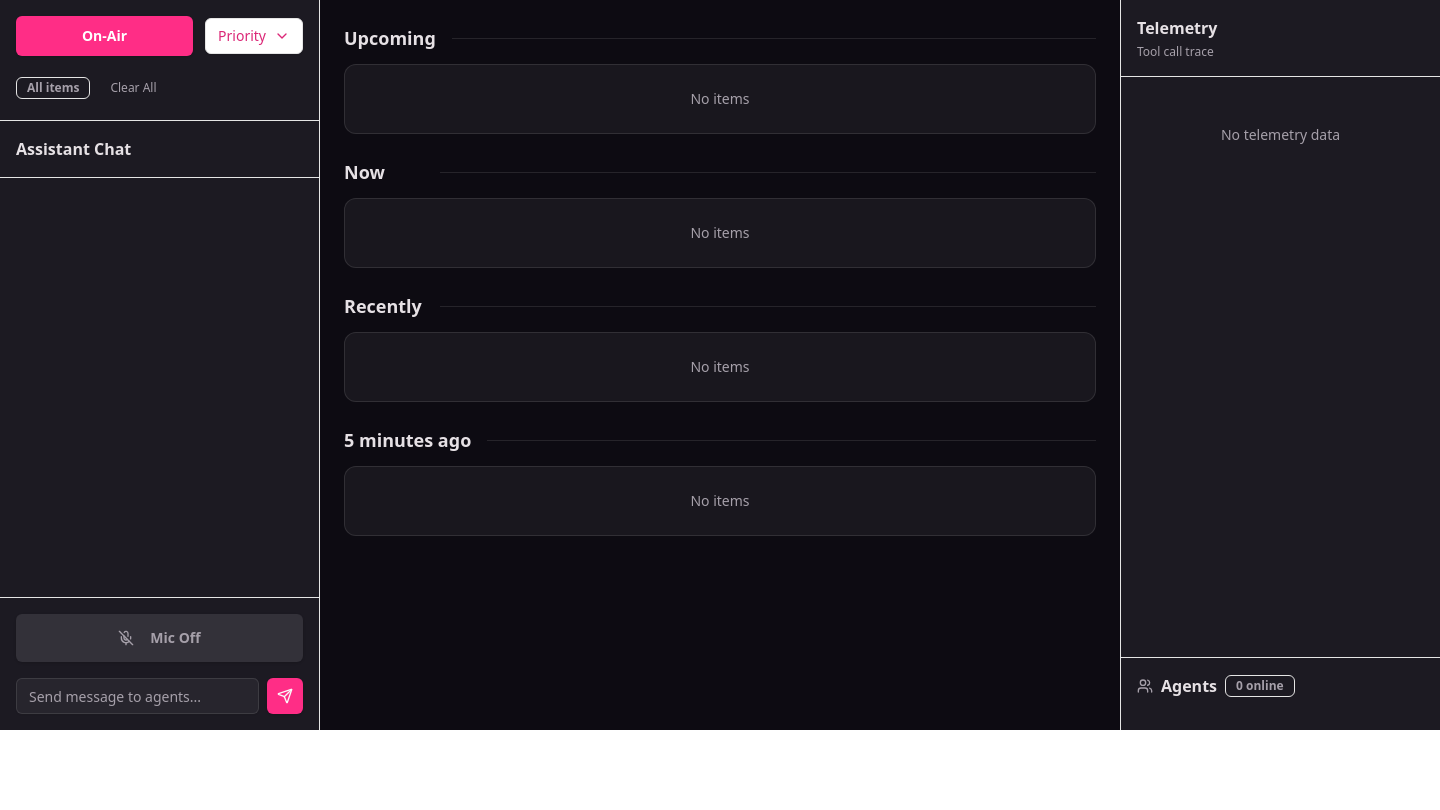
Live page › should toggle microphone on and off and update agent replying status
// Turn mic on
Click the button "Mic Off". click: (160, 638)
box: [16, 614, 303, 662]
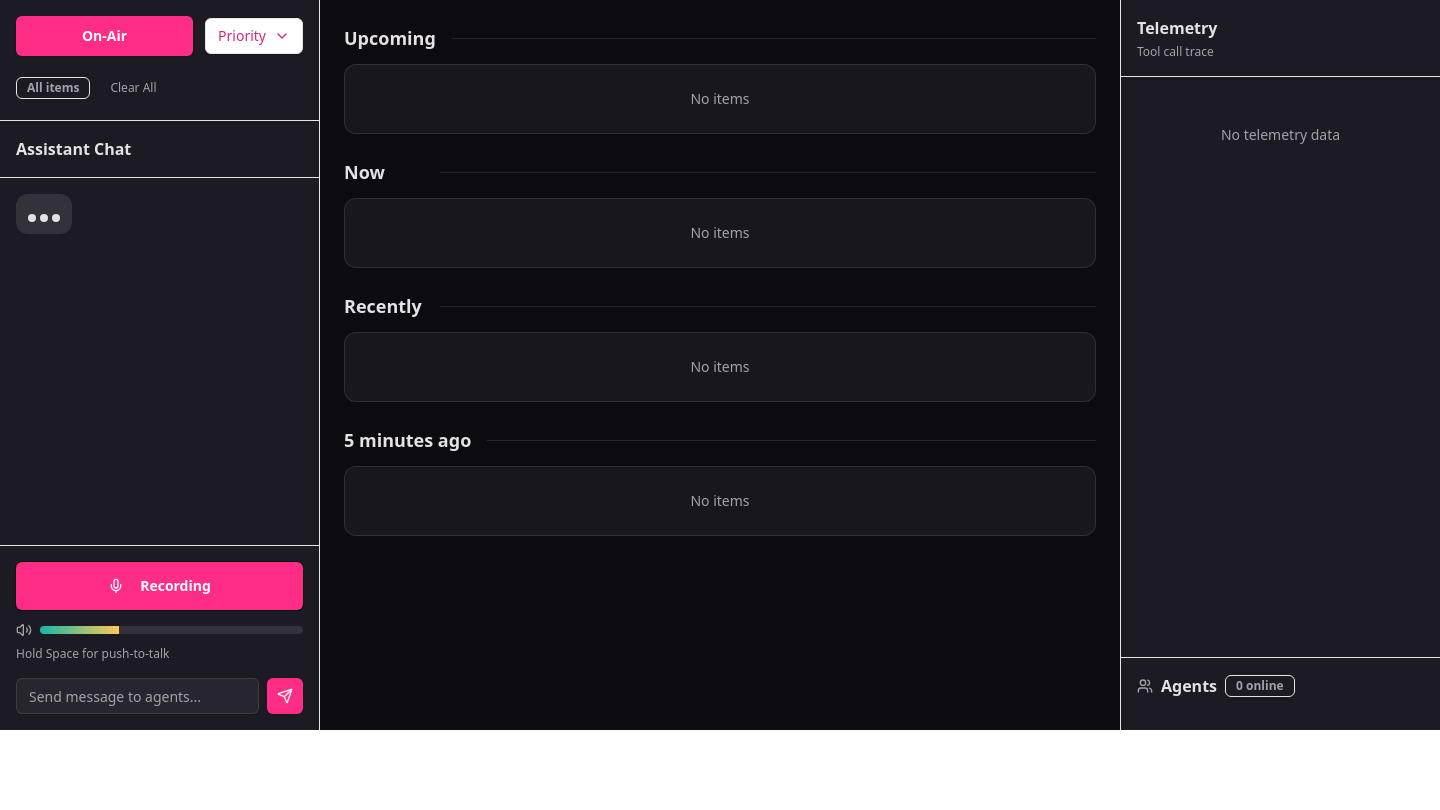
expect the button "Recording" is shown: met
expect the element with test id "agent-replying-indicator" is shown: met, box [16, 194, 72, 234]
// Turn mic off
Click the button "Recording". click: (160, 586)
box: [16, 562, 303, 610]
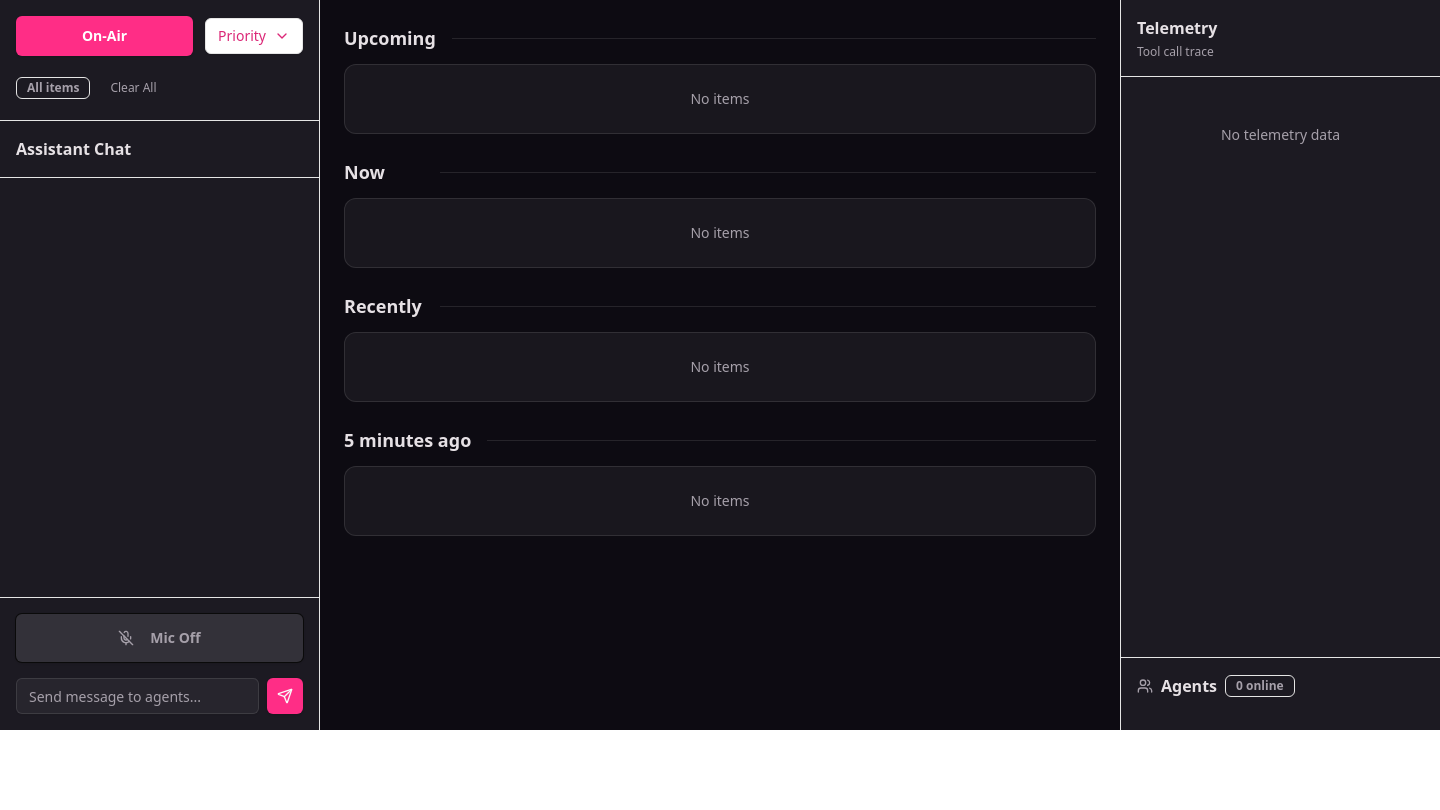
expect the button "Mic Off" is shown: met, box [16, 614, 303, 662]
expect the element with test id "agent-replying-indicator" is gone: met
